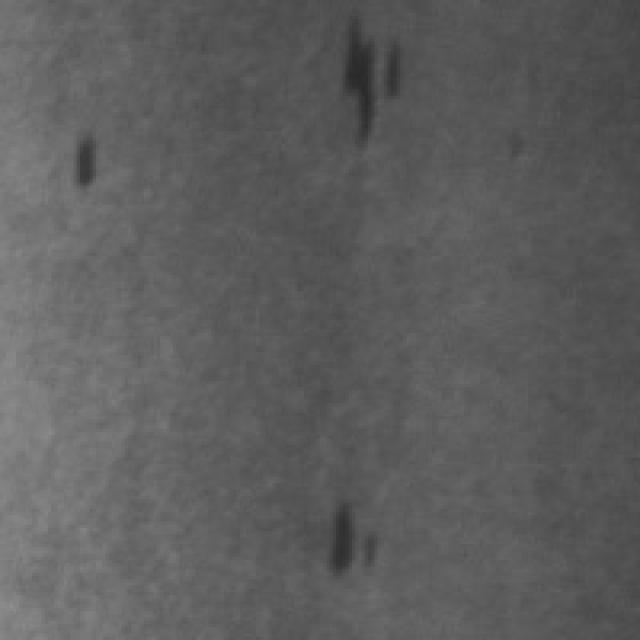inclusion: (330, 7, 403, 148), (314, 487, 384, 582), (61, 122, 99, 192)
